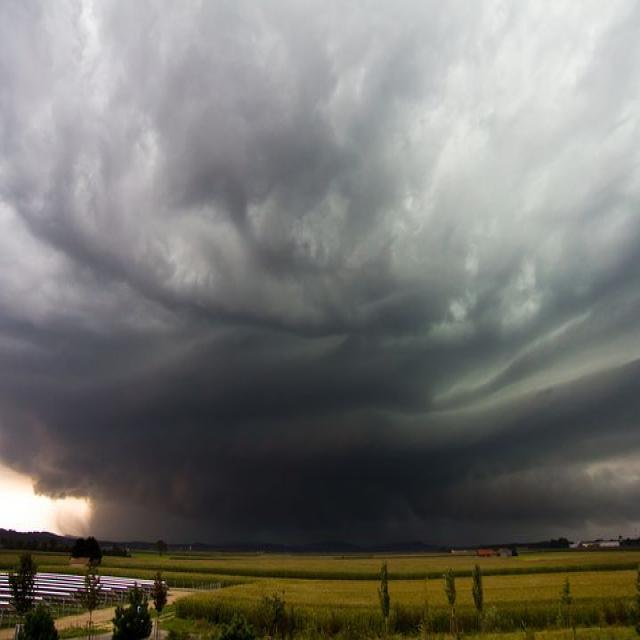cumulonimbus: (1, 0, 640, 542)
